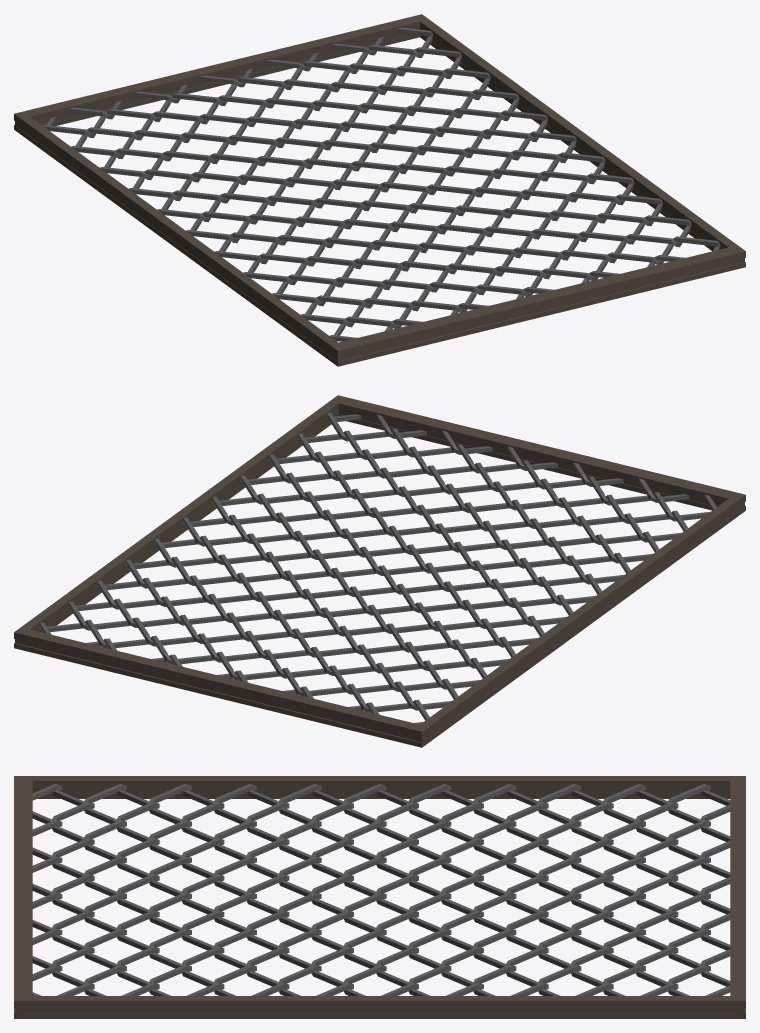
Rendered from Fence.fbx.
3 views of the same model, one above another, from view 1: azimuth 30°, elevation 25°; view 2: azimuth 150°, elevation 25°; view 3: azimuth 270°, elevation 25° (orthographic). The views are drawn at different scales.
Parts seen in each view (by area): view 1: 立方体.004; view 2: 立方体.004; view 3: 立方体.004.
Part boxes in pixels (x1,y1,x2,y2): 立方体.004: (14,14,745,366); 立方体.004: (14,395,745,747); 立方体.004: (14,776,745,1018).
Bounding box in the file's own units: 822 × 30.65 × 1131.
